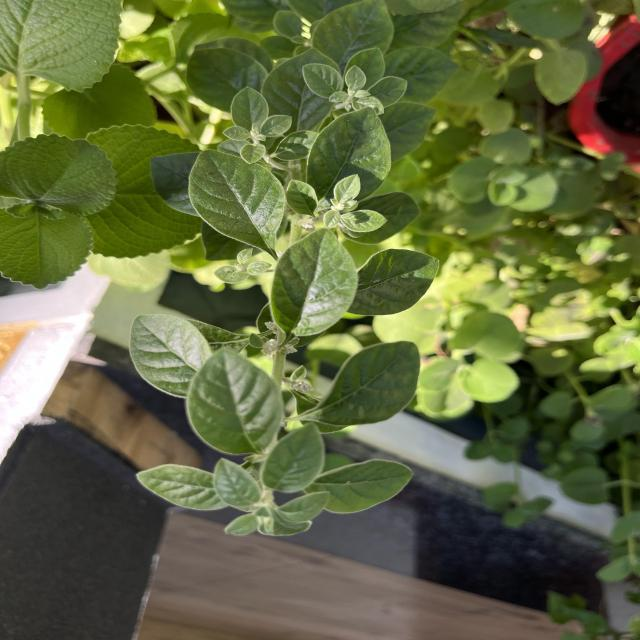Aerva lanata: (186, 146, 288, 256), (305, 105, 395, 205), (126, 311, 215, 400), (344, 246, 442, 318)
